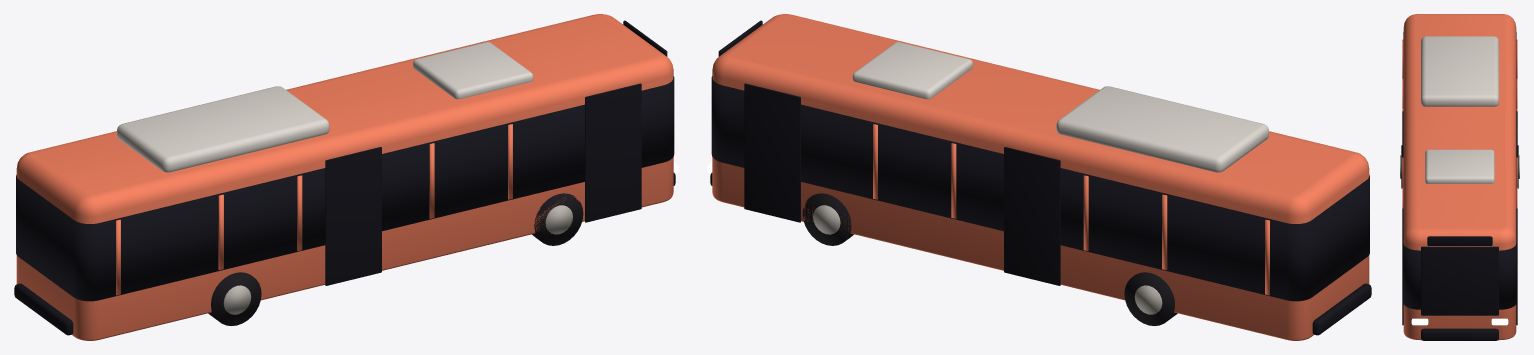
Rendered from bus-today.glb.
The picture shows the model from 3 angles, left to right: view 1: azimuth 30°, elevation 25°; view 2: azimuth 150°, elevation 25°; view 3: azimuth 270°, elevation 25°; orthographic projection. The views are drawn at different scales.
Parts seen in each view (by area): view 1: B_body, B_band, B_ac, B_door_4.7_-1, B_door_-0.6_-1, B_hvac, B_wr-1_tyre, B_wf-1_tyre, B_rbumper, B_wr-1_hub, B_wf-1_hub; view 2: B_body, B_band, B_ac, B_door_4.7_1, B_door_-0.6_1, B_hvac, B_wr1_tyre, B_wf1_tyre, B_rbumper, B_wr1_hub, B_wf1_hub; view 3: B_body, B_ac, B_wind, B_band, B_hvac, B_bumper, B_sign, B_door_4.7_1, B_door_4.7_-1, B_lamp_1, B_lamp_-1.
Boxes of the visible parts, bbox=[...] form: B_body: bbox=[16, 14, 673, 340]; B_band: bbox=[16, 76, 674, 301]; B_ac: bbox=[117, 86, 329, 172]; B_door_4.7_-1: bbox=[585, 83, 641, 222]; B_door_-0.6_-1: bbox=[325, 147, 381, 285]; B_hvac: bbox=[413, 42, 533, 99]; B_wr-1_tyre: bbox=[208, 272, 261, 325]; B_wf-1_tyre: bbox=[532, 193, 583, 245]; B_rbumper: bbox=[14, 283, 73, 335]; B_wr-1_hub: bbox=[223, 285, 251, 314]; B_wf-1_hub: bbox=[545, 205, 572, 234]; B_body: bbox=[712, 14, 1369, 340]; B_band: bbox=[711, 76, 1369, 301]; B_ac: bbox=[1056, 86, 1268, 172]; B_door_4.7_1: bbox=[744, 83, 800, 222]; B_door_-0.6_1: bbox=[1004, 147, 1060, 285]; B_hvac: bbox=[852, 42, 972, 99]; B_wr1_tyre: bbox=[1124, 272, 1177, 325]; B_wf1_tyre: bbox=[802, 193, 853, 245]; B_rbumper: bbox=[1312, 283, 1371, 335]; B_wr1_hub: bbox=[1134, 285, 1162, 314]; B_wf1_hub: bbox=[813, 205, 840, 234]; B_body: bbox=[1403, 14, 1516, 340]; B_ac: bbox=[1421, 36, 1498, 106]; B_wind: bbox=[1421, 246, 1498, 315]; B_band: bbox=[1403, 32, 1516, 309]; B_hvac: bbox=[1425, 149, 1494, 183]; B_bumper: bbox=[1421, 328, 1498, 340]; B_sign: bbox=[1427, 236, 1492, 245]; B_door_4.7_1: bbox=[1516, 208, 1517, 325]; B_door_4.7_-1: bbox=[1402, 208, 1403, 325]; B_lamp_1: bbox=[1491, 318, 1508, 325]; B_lamp_-1: bbox=[1411, 318, 1428, 325].
Size of the model in its own units: 12.48 by 3.31 by 2.76.
